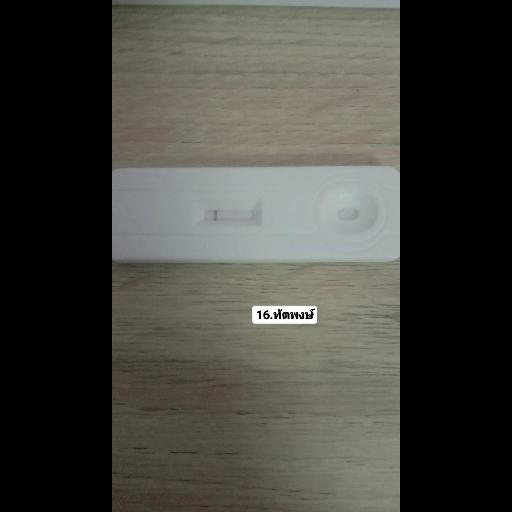Neg: (113, 166, 399, 258)
